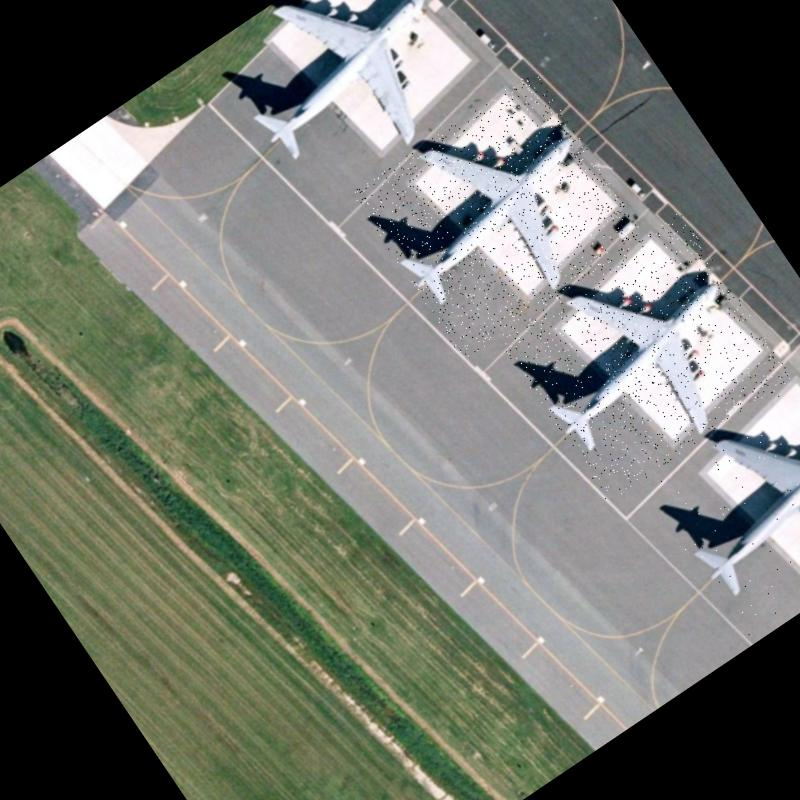A4: (496, 211, 794, 503), (351, 69, 647, 360), (205, 0, 502, 214), (641, 358, 800, 644)
